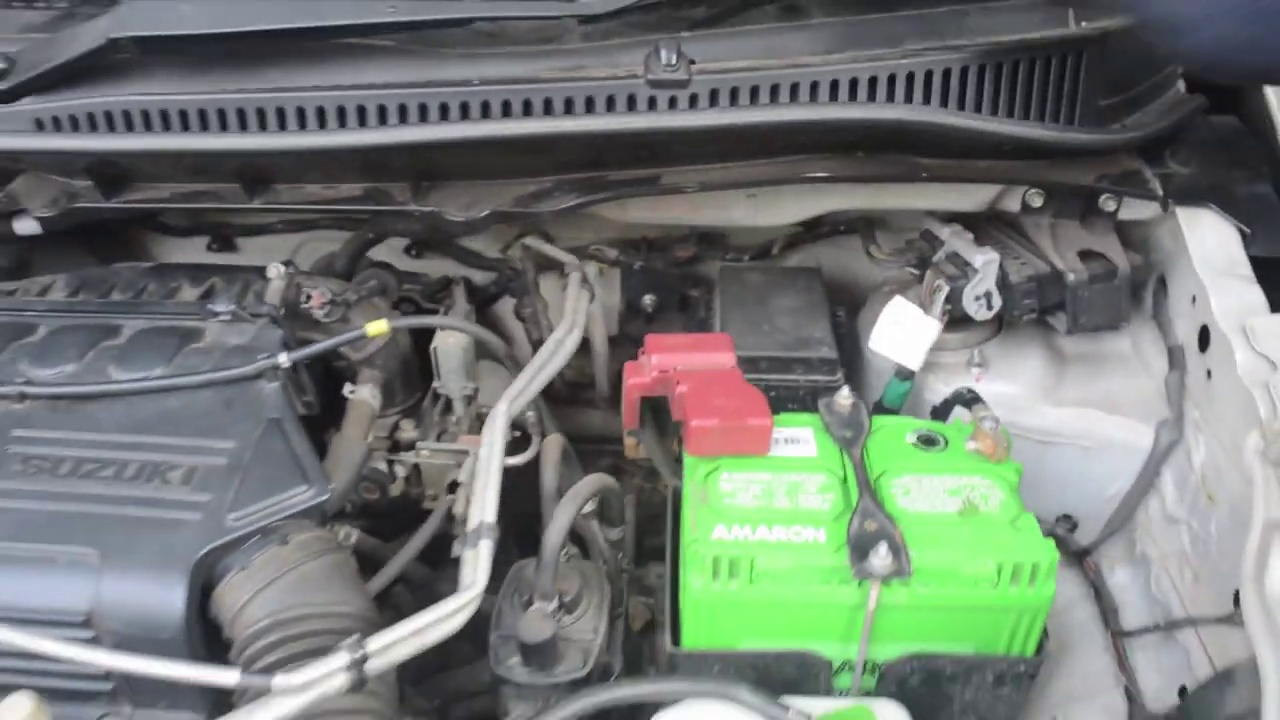battery: (670, 403, 1060, 620)
neg_connected: (949, 370, 1015, 470)
pos_connected: (622, 320, 775, 466)
